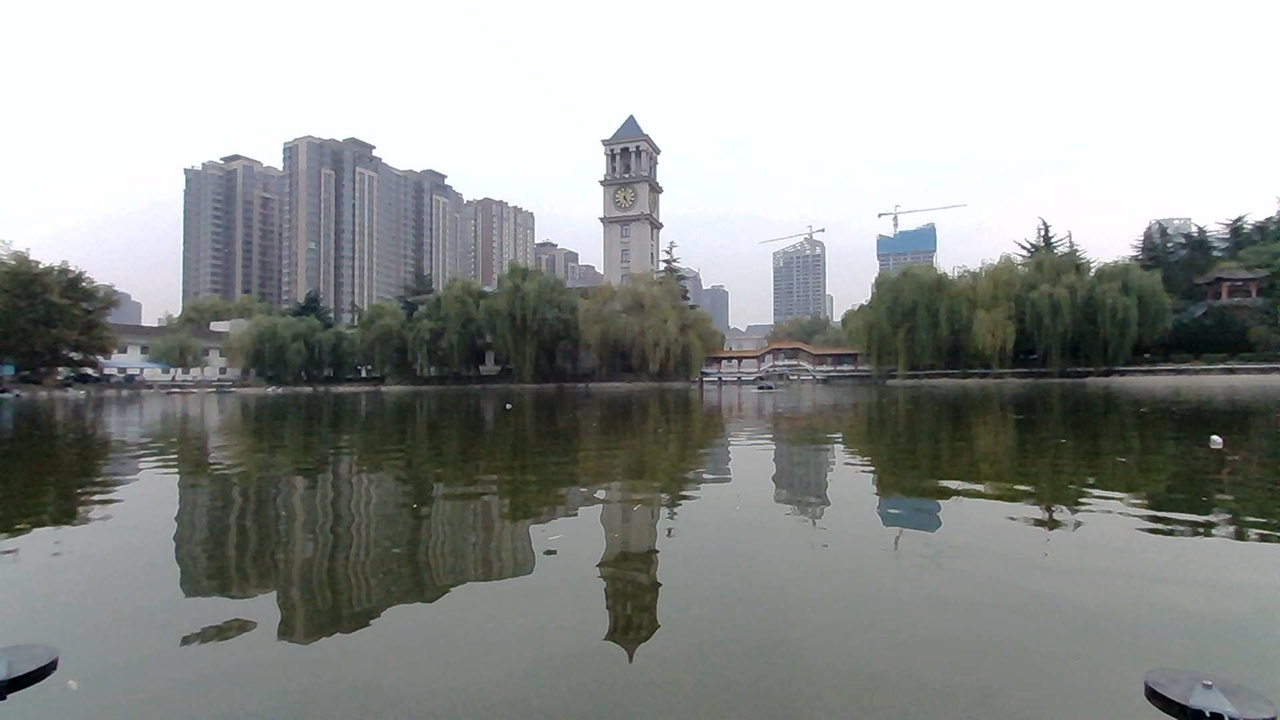bottle: (1190, 424, 1245, 455)
